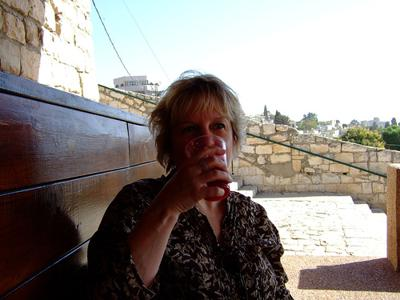person: (83, 71, 298, 300)
